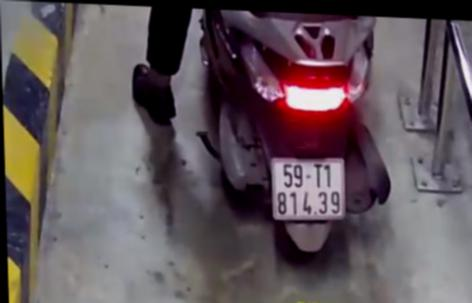License_Plate: (253, 147, 354, 228)
